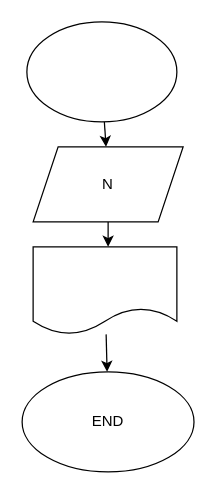
Some shapes in this 216 by 494 pixel diagram are drawn without their labels. Each missing label, with the centre of its shape:
"N*N" goes at (x=104, y=290).
"START" goes at (x=101, y=71).
